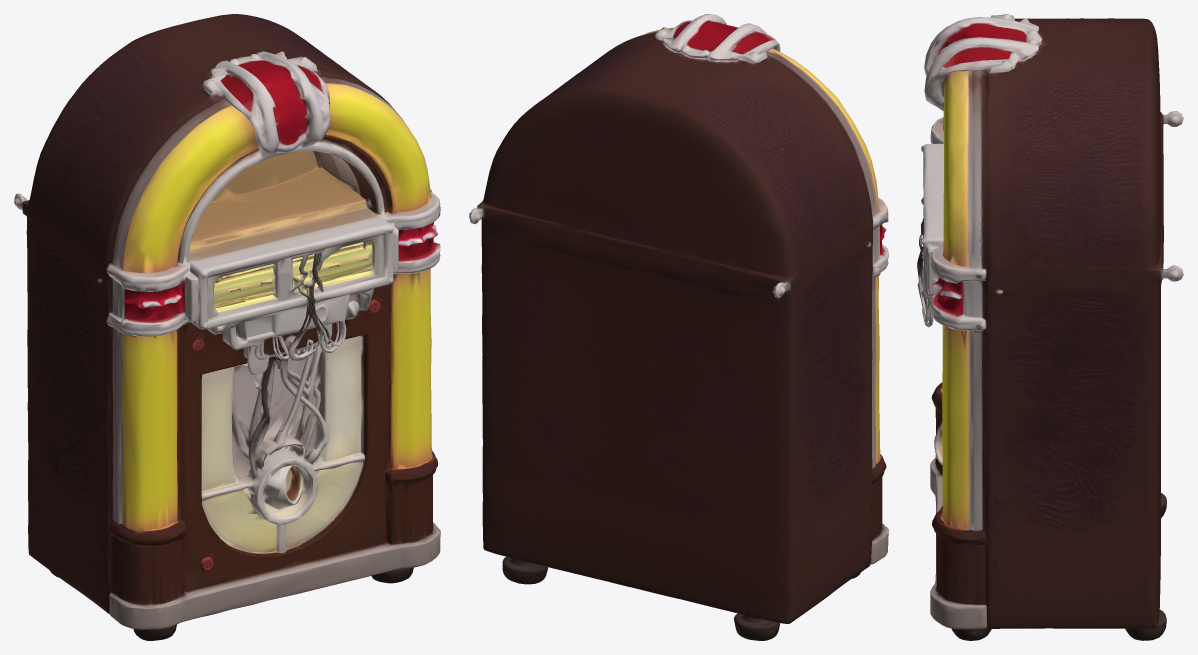
The model's file is bar_jukebox.glb.
The picture shows the model from 3 angles, left to right: view 1: azimuth 30°, elevation 25°; view 2: azimuth 150°, elevation 25°; view 3: azimuth 270°, elevation 25°; orthographic projection. The views are drawn at different scales.
Visible parts, largest first — view 1: tripo_node_2c1d0d8e-9ee7-463a-b3ba-4e77a8d9bdee; view 2: tripo_node_2c1d0d8e-9ee7-463a-b3ba-4e77a8d9bdee; view 3: tripo_node_2c1d0d8e-9ee7-463a-b3ba-4e77a8d9bdee.
Part boxes in pixels (<box>): tripo_node_2c1d0d8e-9ee7-463a-b3ba-4e77a8d9bdee: <box>14,14,440,640</box>; tripo_node_2c1d0d8e-9ee7-463a-b3ba-4e77a8d9bdee: <box>469,14,888,640</box>; tripo_node_2c1d0d8e-9ee7-463a-b3ba-4e77a8d9bdee: <box>917,14,1183,640</box>.
Bounding box in the file's own units: 0.6229 × 0.9805 × 0.4331.
1 material, 1 textured.
